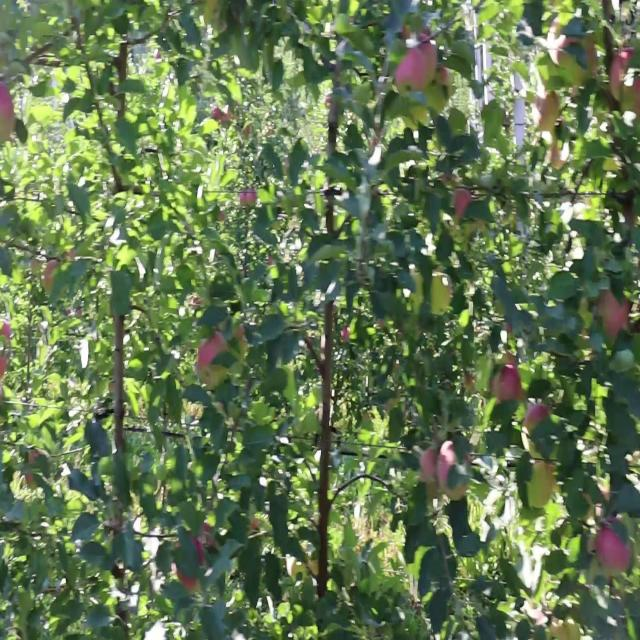apple: (609, 49, 640, 118), (595, 518, 630, 573), (175, 527, 204, 591), (436, 440, 466, 500), (598, 289, 630, 340), (394, 47, 428, 91), (490, 364, 522, 400), (198, 331, 228, 369), (532, 91, 559, 131), (436, 440, 458, 487), (546, 18, 568, 64), (419, 36, 438, 80), (524, 402, 549, 433), (548, 140, 569, 169), (42, 258, 59, 293), (420, 447, 438, 480), (0, 82, 14, 120), (454, 189, 472, 217), (211, 107, 231, 122), (436, 67, 451, 87), (0, 320, 11, 340), (0, 353, 8, 379), (24, 471, 35, 487), (340, 327, 350, 342)
